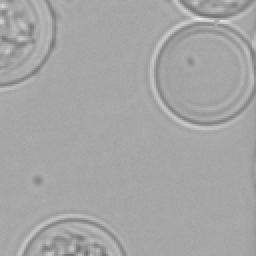picoshell: (148, 16, 254, 128), (16, 214, 124, 254), (170, 0, 254, 20)
